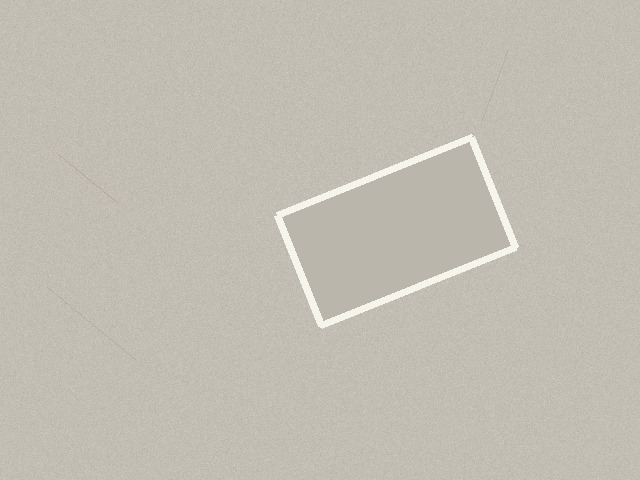parking_area: (277, 137, 515, 325)
